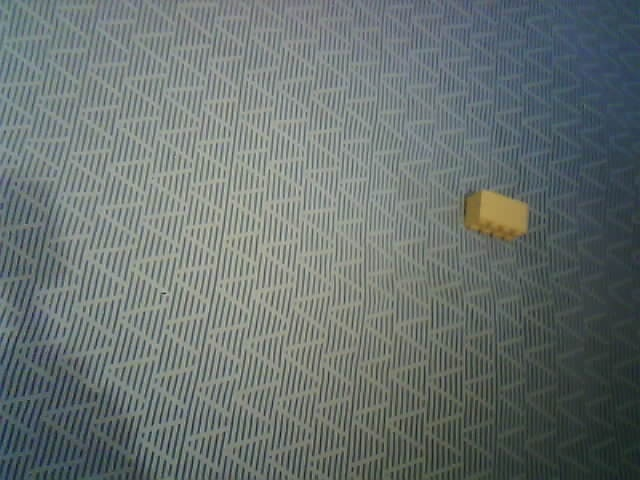lego: (463, 189, 529, 241)
